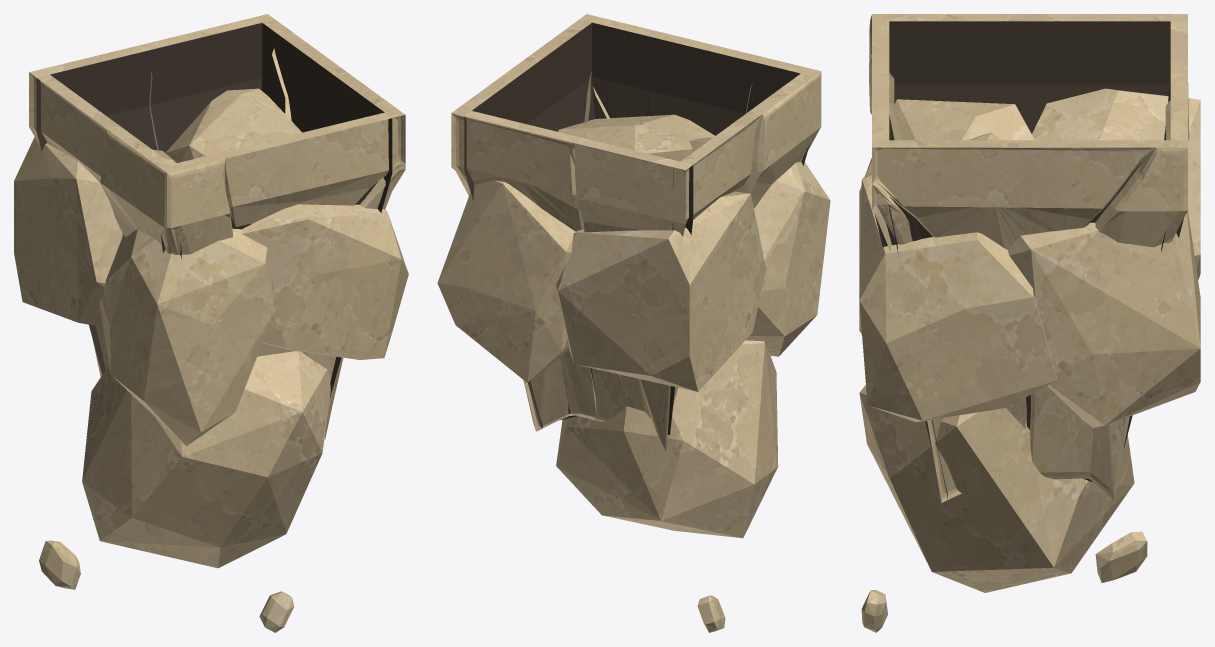
Rendered from ground_bottom_square_island_08.glb.
3 views of the same model, side by side, from view 1: azimuth 30°, elevation 25°; view 2: azimuth 150°, elevation 25°; view 3: azimuth 270°, elevation 25° (orthographic). The views are drawn at different scales.
Visible parts, largest first — view 1: GroundBottomSquareIsland08_Body; view 2: GroundBottomSquareIsland08_Body; view 3: GroundBottomSquareIsland08_Body.
Boxes of the visible parts, x1=… form: GroundBottomSquareIsland08_Body: x1=14, y1=14, x2=408, y2=632; GroundBottomSquareIsland08_Body: x1=437, y1=14, x2=830, y2=632; GroundBottomSquareIsland08_Body: x1=859, y1=14, x2=1200, y2=632.
Bounding box in the file's own units: 1.08 × 1.97 × 1.08.
Materials: 16 (15 with a texture image).
